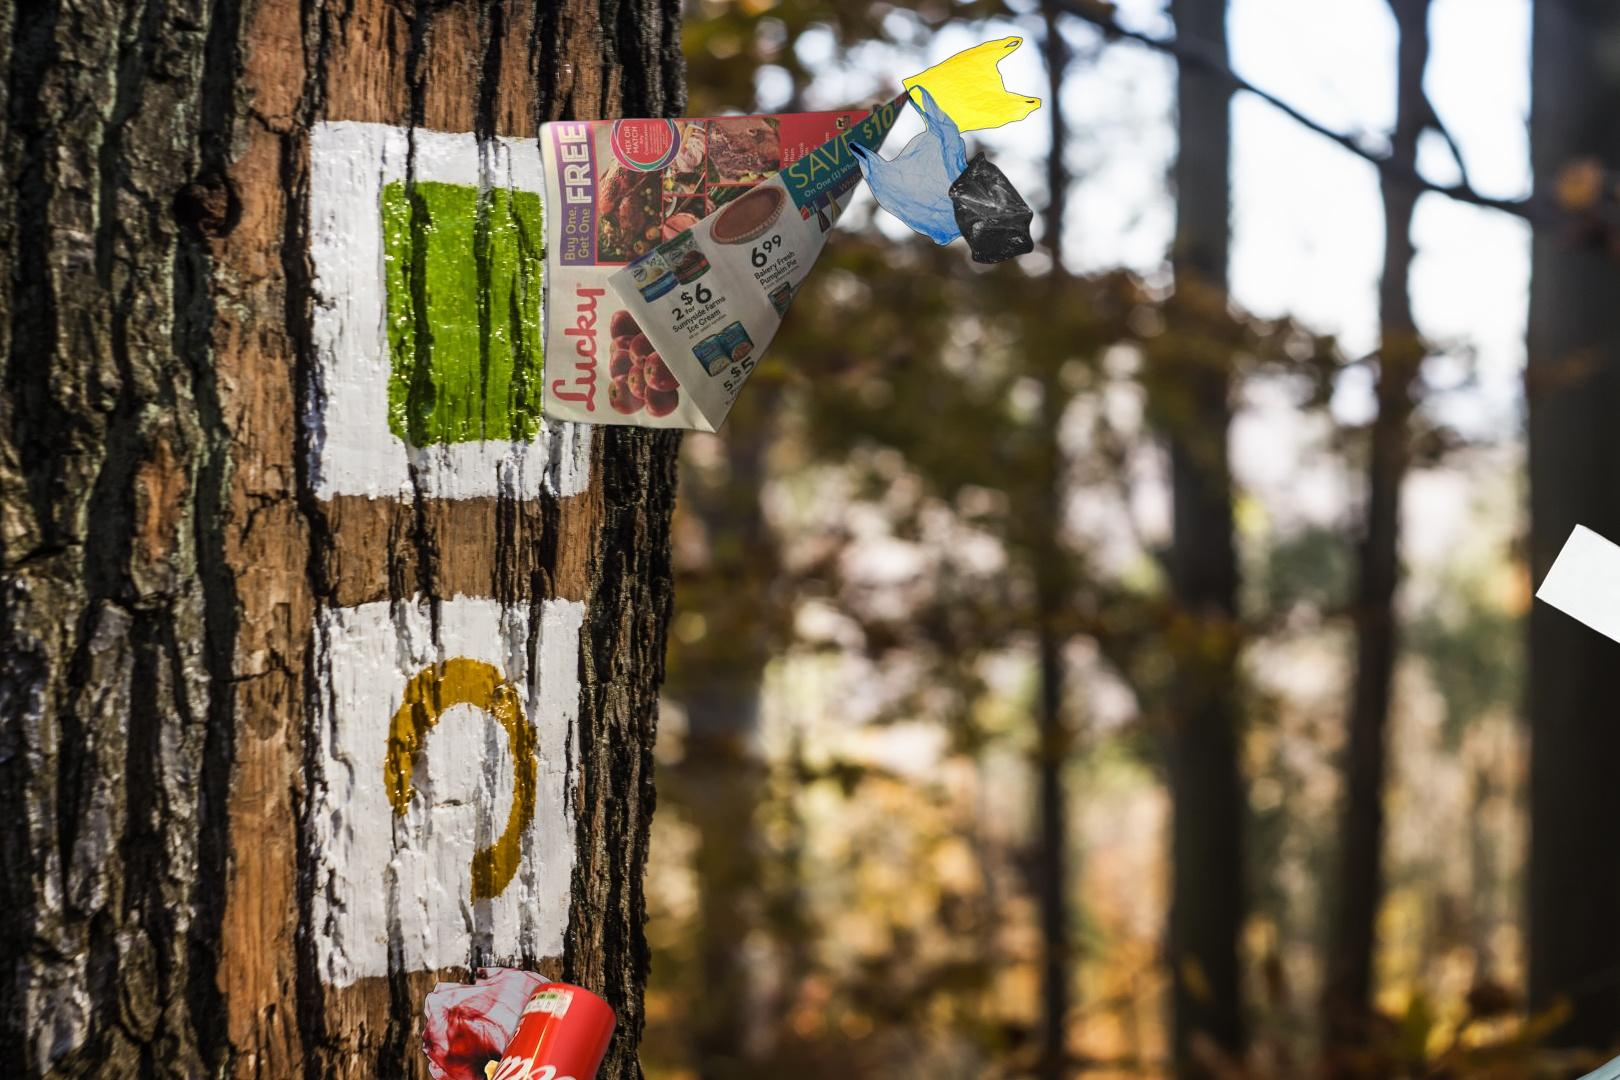glass: (1458, 944, 1620, 1080)
metal-cans: (432, 975, 622, 1080)
paper: (534, 74, 921, 436)
paper-bag: (1532, 520, 1620, 695)
plastic-bag: (844, 34, 1044, 268), (319, 900, 568, 1080), (405, 1049, 595, 1080)
